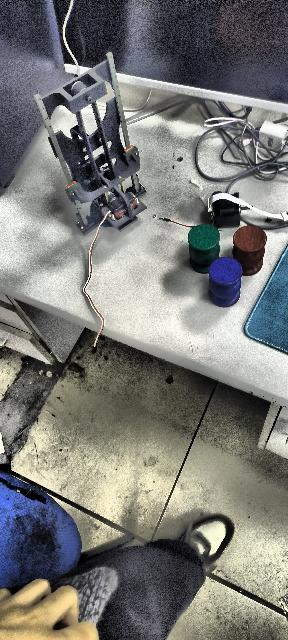blue: (208, 256, 242, 306)
green: (187, 224, 221, 273)
red: (232, 225, 269, 277)
